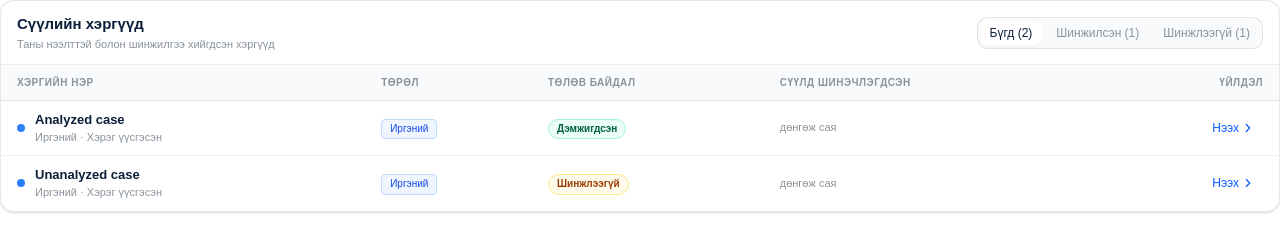
LawyerWorkspaceCaseTable — Шинжилсэн filter uses analysisStatus › B: an unanalyzed case does not appear under Шинжилсэн
The image size is (1280, 230).
Click the button "Шинжилсэн (1)".
click(1098, 32)  # box [1046,20,1149,46]
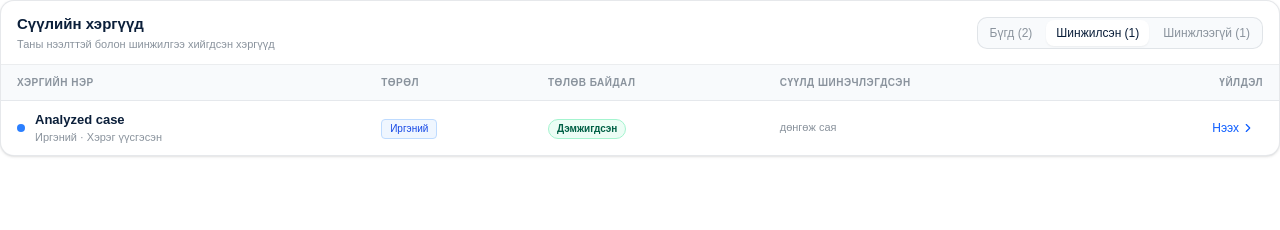
Expected: the text "Unanalyzed case" is gone
